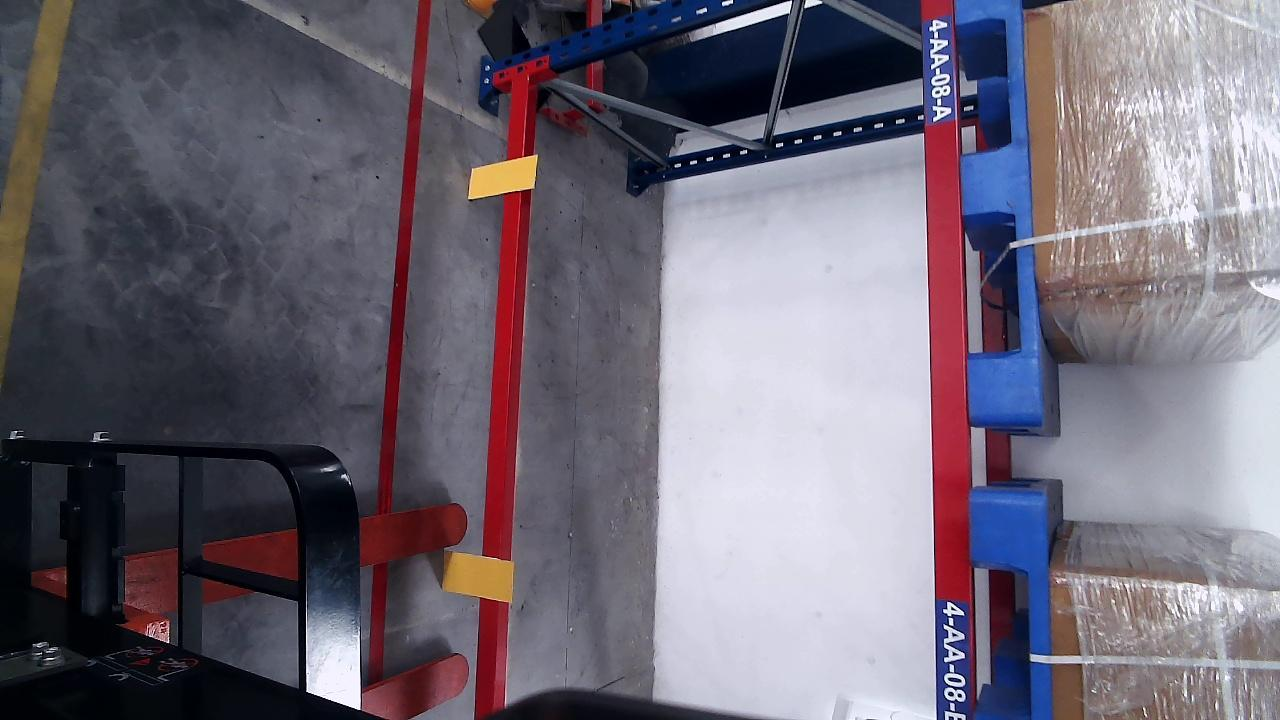h_rack: (920, 2, 976, 718), (472, 77, 528, 720)
orange_strip: (440, 553, 511, 605), (467, 158, 538, 200)
red_line: (370, 0, 434, 682)
small_pallet: (953, 2, 1040, 423), (974, 490, 1052, 720)
